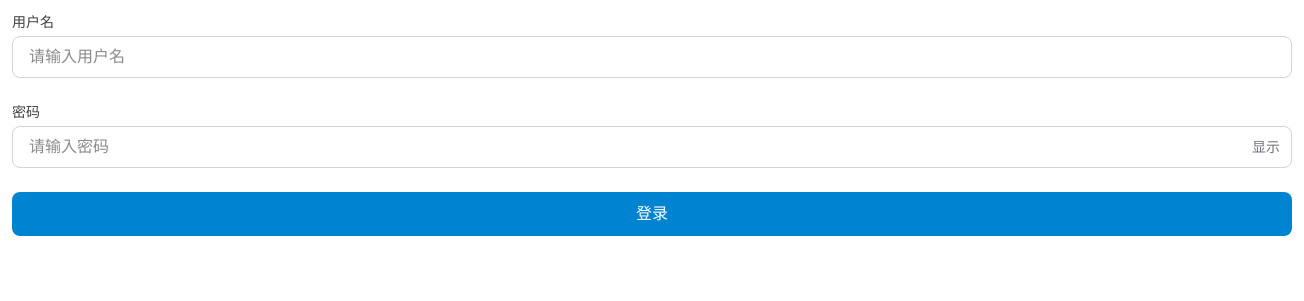
Test case: LoginForm › should show validation errors when submitted empty
Click the button "登录" at (652, 214), box [12,192,1292,236]
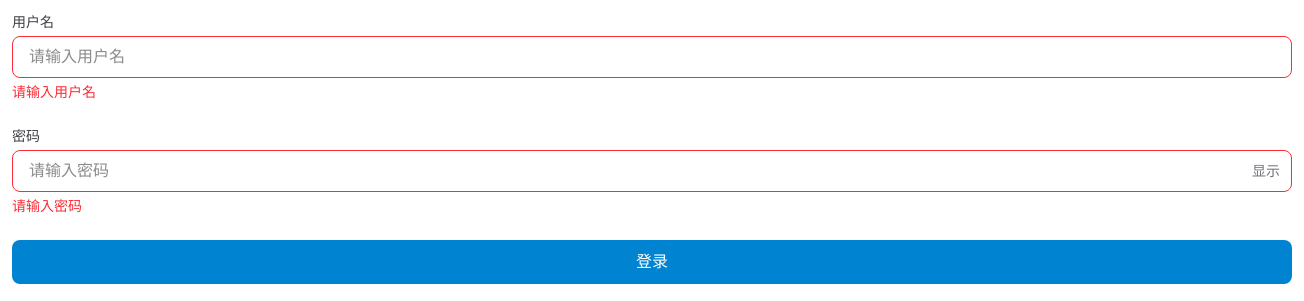
Now the text "请输入用户名" is shown, box [12,84,96,100]
Now the text "请输入密码" is shown, box [12,198,82,214]
